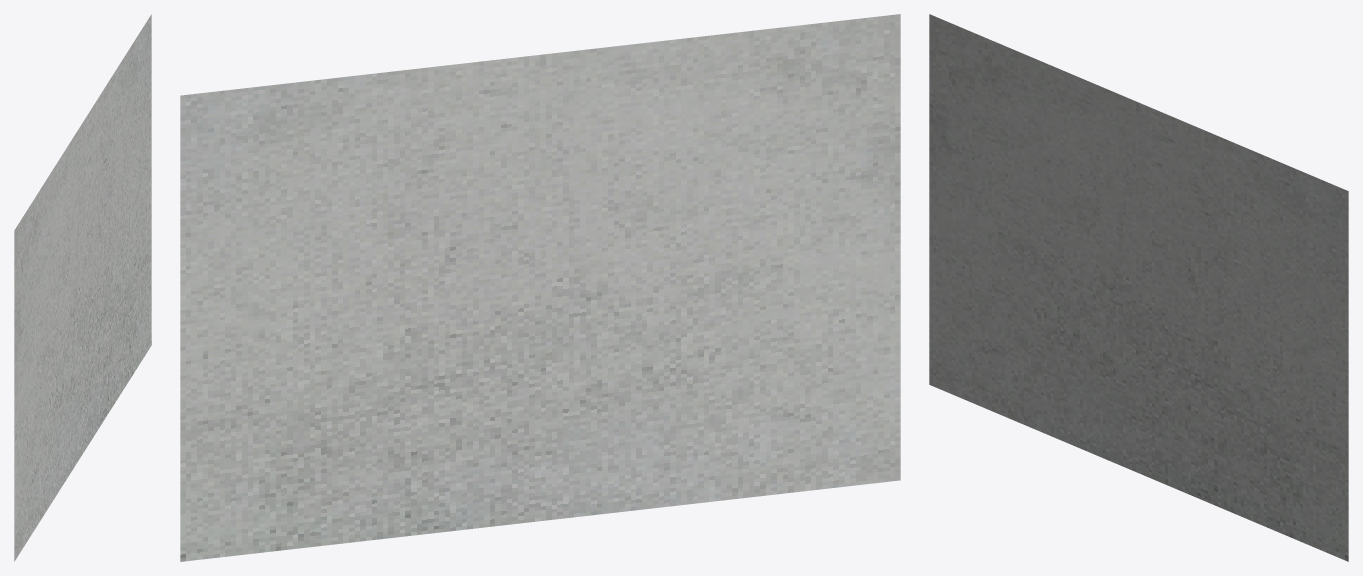
The model's file is wallDiagonalPlaster.glb.
3 renders of one model, left to right at view 1: azimuth 30°, elevation 25°; view 2: azimuth 150°, elevation 25°; view 3: azimuth 270°, elevation 25°, orthographic. The views are drawn at different scales.
Visible parts, largest first — view 1: wallDiagonalPlaster; view 2: wallDiagonalPlaster; view 3: wallDiagonalPlaster.
Boxes of the visible parts, <box> form: wallDiagonalPlaster: <box>14,14,151,561</box>; wallDiagonalPlaster: <box>180,14,900,561</box>; wallDiagonalPlaster: <box>929,14,1348,561</box>.
Bounding box in the file's own units: 4.1 × 4 × 4.1.
Materials: 1 (1 with a texture image).
